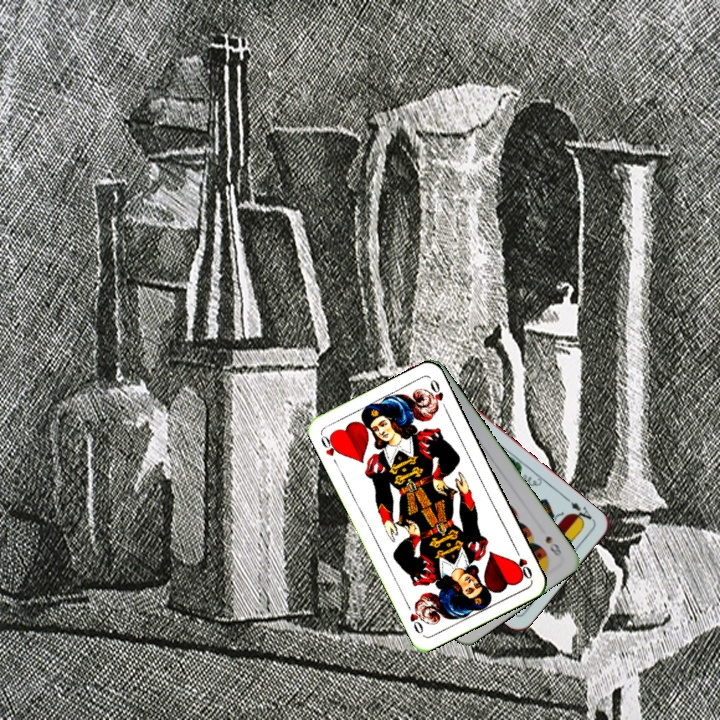EA: (566, 497, 596, 527)
HO: (510, 544, 535, 582), (317, 430, 343, 459)
S8: (541, 531, 564, 559)
